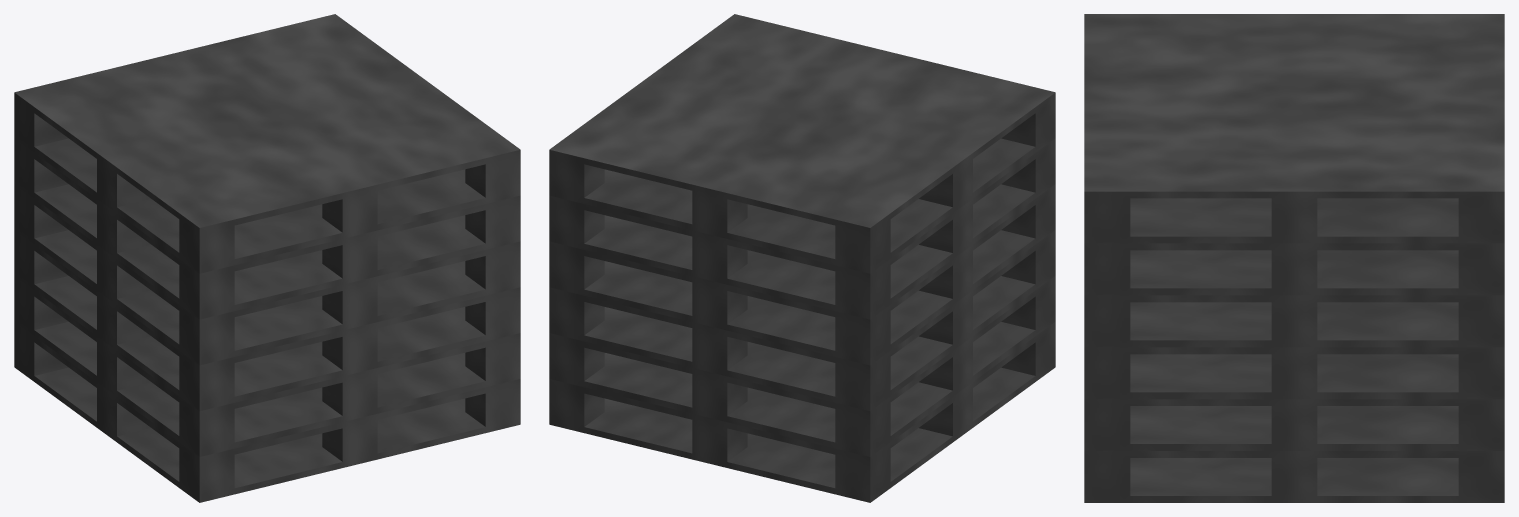
Rendered from ob_Pallet_pra6.fbx.
3 views of the same model, side by side, from view 1: azimuth 30°, elevation 25°; view 2: azimuth 150°, elevation 25°; view 3: azimuth 270°, elevation 25° (orthographic). The views are drawn at different scales.
Parts seen in each view (by area): view 1: Pallet_Pra6; view 2: Pallet_Pra6; view 3: Pallet_Pra6.
Part boxes in pixels (bbox=[...]): Pallet_Pra6: bbox=[14, 14, 520, 502]; Pallet_Pra6: bbox=[549, 14, 1055, 502]; Pallet_Pra6: bbox=[1084, 14, 1504, 502].
Bounding box in the file's own units: 110 × 90 × 110.
